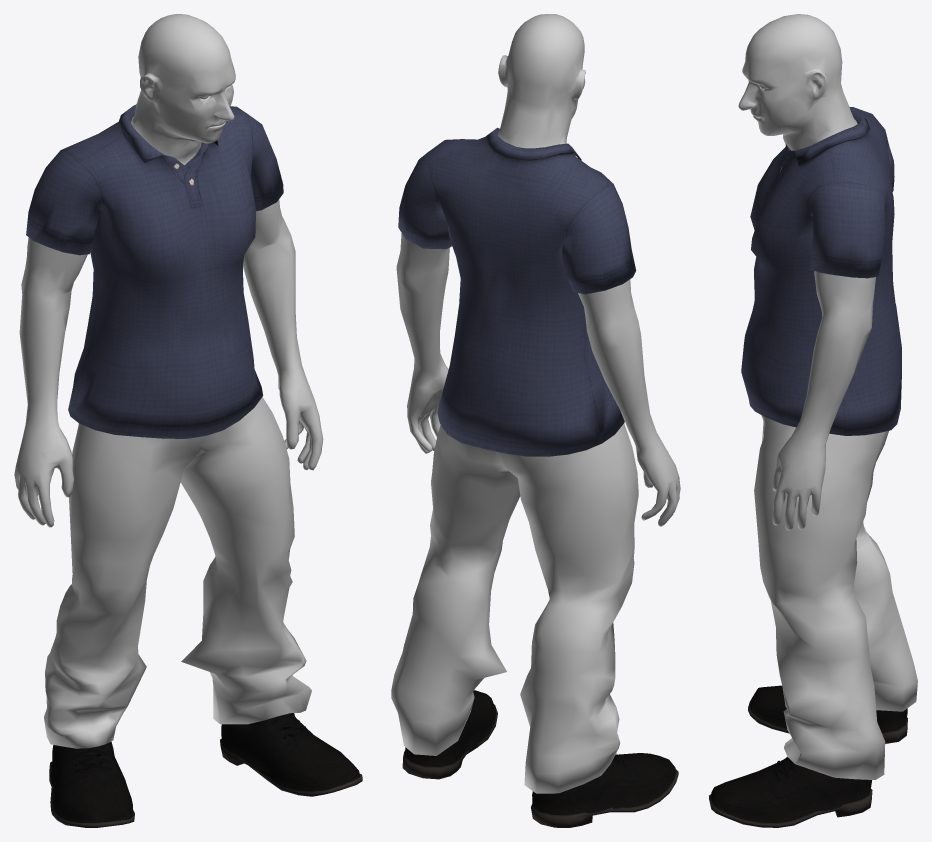
Rendered from human_02Stand.fbx.
The picture shows the model from 3 angles, left to right: view 1: azimuth 30°, elevation 25°; view 2: azimuth 150°, elevation 25°; view 3: azimuth 270°, elevation 25°; orthographic projection. The views are drawn at different scales.
Parts seen in each view (by area): view 1: human 02Stand; view 2: human 02Stand; view 3: human 02Stand.
Part boxes in pixels (x1,y1,x2,y2): human 02Stand: (14, 14, 362, 827); human 02Stand: (391, 14, 680, 827); human 02Stand: (709, 14, 917, 827).
Size of the model in its own units: 70.76 by 177 by 45.07.
